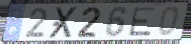0: (156, 5, 181, 38)
2: (76, 6, 103, 39), (23, 7, 49, 39)
6: (103, 5, 129, 39)
E: (127, 6, 158, 38)
X: (47, 6, 80, 40)
